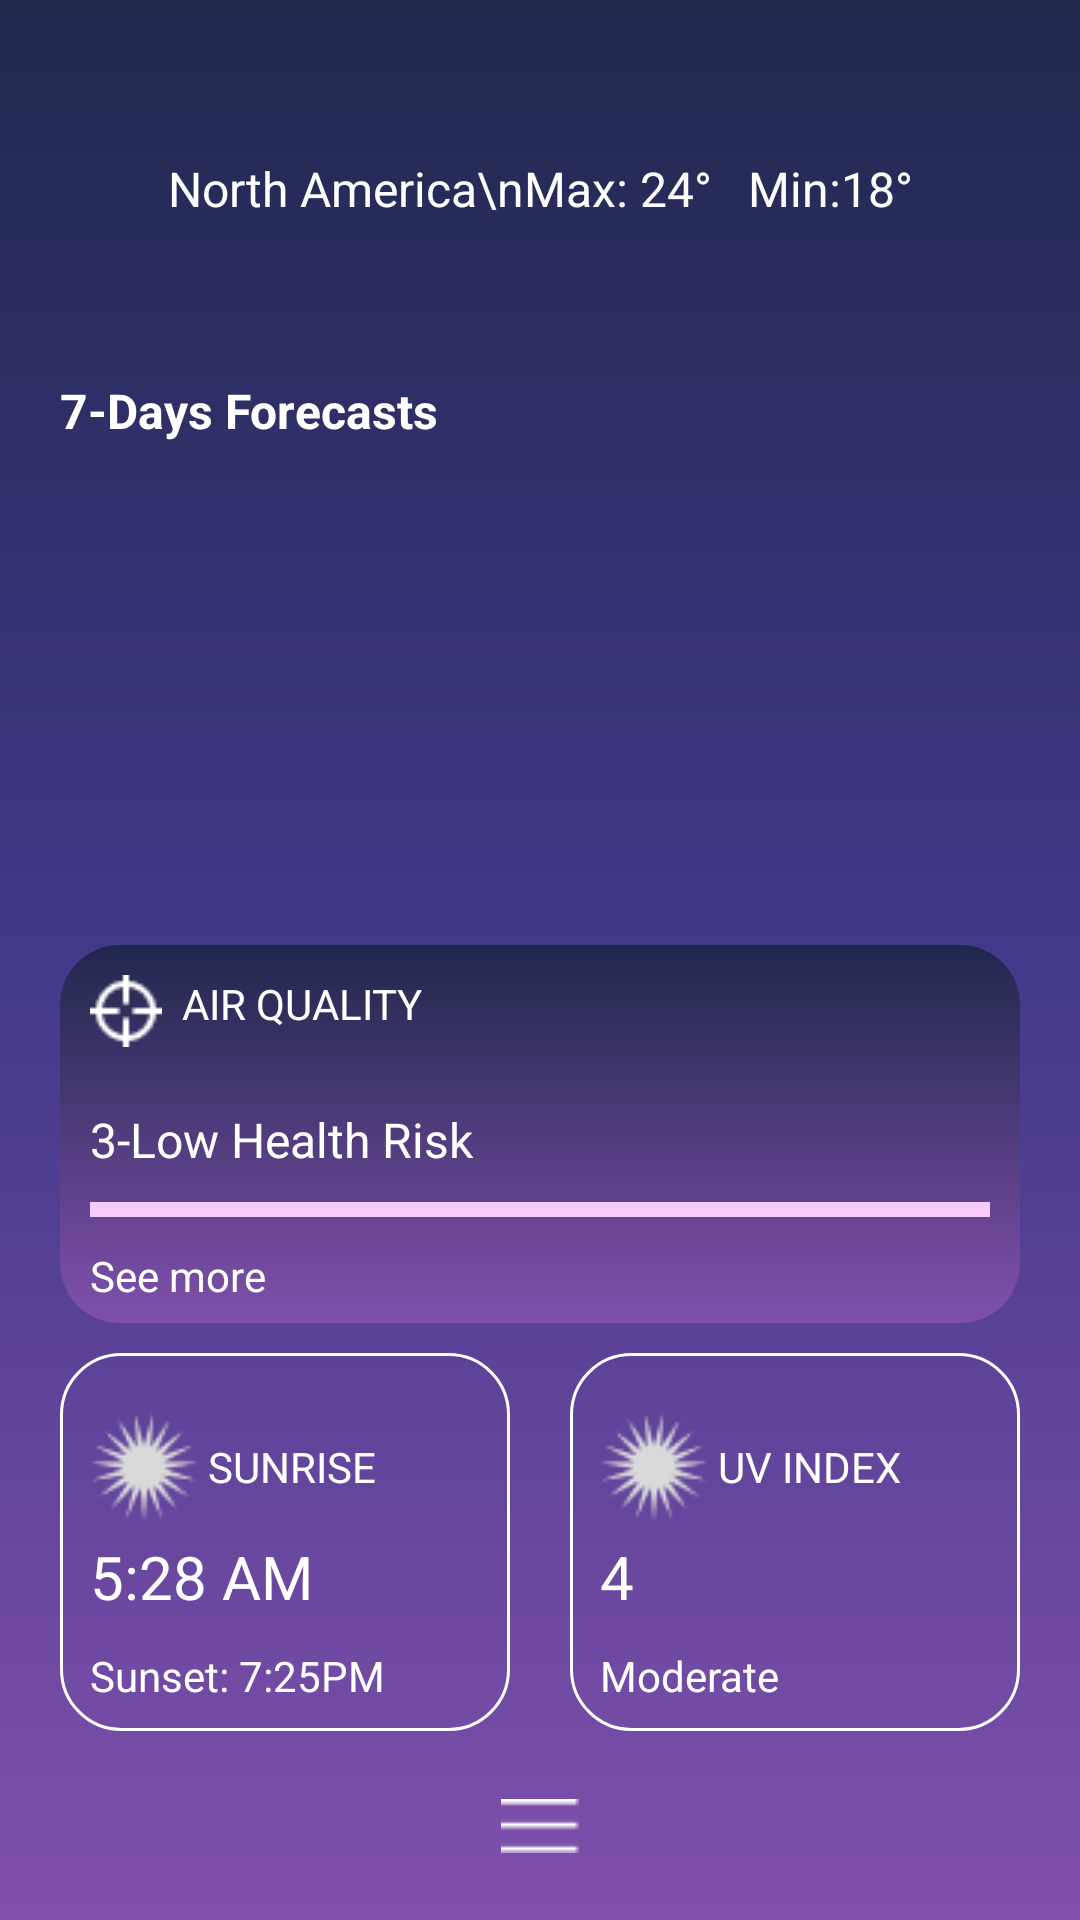

Named icons in this screenshot (1080x1920) and their centers, (x,y):
menu: (540,1826)
